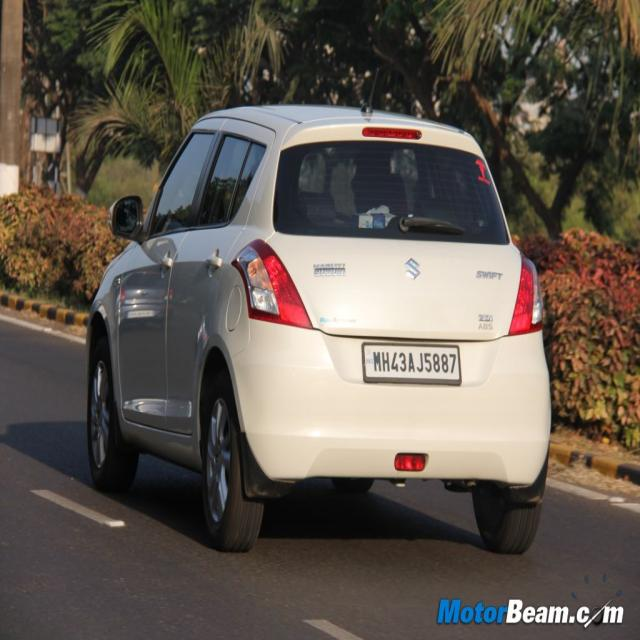Number-Plate: (364, 346, 461, 378)
